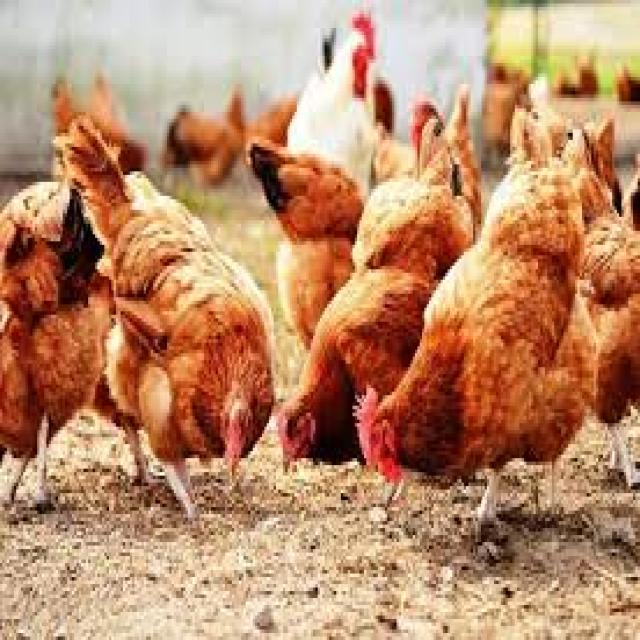Healthy: (346, 115, 602, 527), (46, 105, 278, 488)
